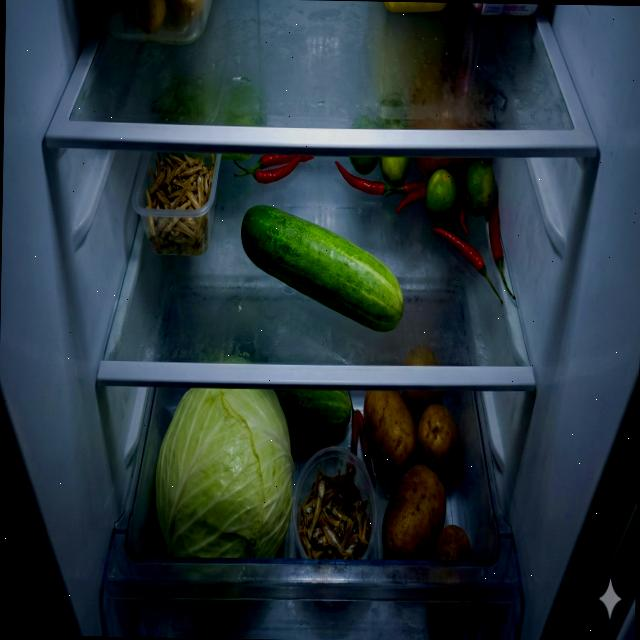anchovies: (296, 459, 371, 561), (144, 152, 216, 257)
cabbage: (153, 386, 296, 564)
chili: (429, 187, 518, 308), (334, 158, 426, 216), (233, 153, 314, 184)
cucumber: (240, 205, 407, 336), (274, 388, 352, 434)
lime: (460, 158, 496, 217), (425, 168, 458, 227), (348, 157, 412, 186)
potato: (361, 389, 476, 561)
